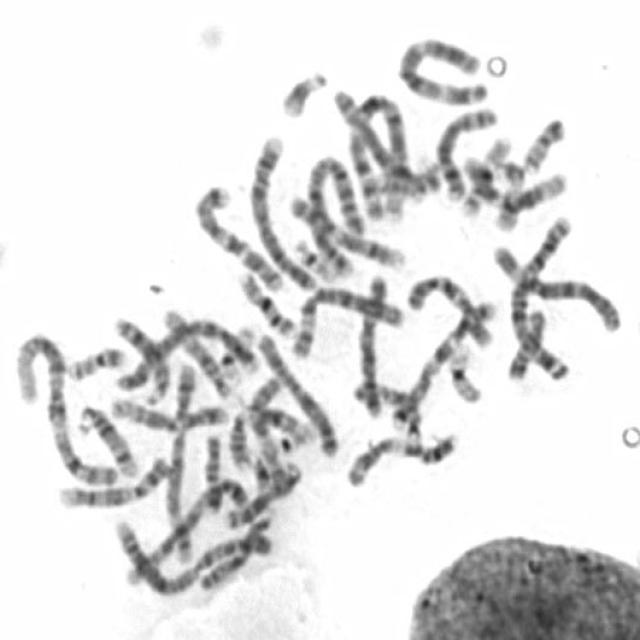A1: (6, 326, 122, 488), (328, 84, 414, 224)
A2: (115, 510, 276, 592), (302, 150, 366, 282)
A3: (505, 210, 577, 384), (393, 28, 492, 106)
B4: (242, 130, 318, 292), (106, 313, 257, 392)
B5: (125, 482, 251, 584), (159, 353, 201, 567)
C10: (402, 266, 498, 351), (252, 377, 305, 497)
C11: (340, 426, 463, 489), (224, 398, 327, 468)
C12: (457, 152, 569, 211), (105, 391, 231, 432)
C6: (486, 236, 623, 334), (286, 279, 404, 360)
C7: (386, 293, 500, 431), (188, 177, 287, 292)
C8: (338, 96, 429, 201), (432, 101, 502, 203)
C9: (283, 188, 410, 272), (54, 452, 170, 509)
D13: (220, 457, 302, 531), (109, 312, 171, 405)
D14: (158, 305, 236, 403), (72, 400, 140, 478)
D15: (194, 506, 278, 595), (348, 378, 426, 441)
E16: (454, 127, 516, 217), (231, 265, 298, 339)
E17: (254, 427, 317, 487), (488, 156, 528, 232)
E18: (503, 304, 547, 382), (199, 428, 225, 516)
F19: (441, 336, 486, 405), (216, 321, 259, 382)
F20: (518, 110, 569, 174), (63, 338, 129, 382)
G21: (275, 62, 330, 121), (362, 168, 424, 202)
G22: (288, 231, 340, 283), (410, 160, 442, 205)
X: (252, 331, 339, 460), (351, 266, 392, 418)
